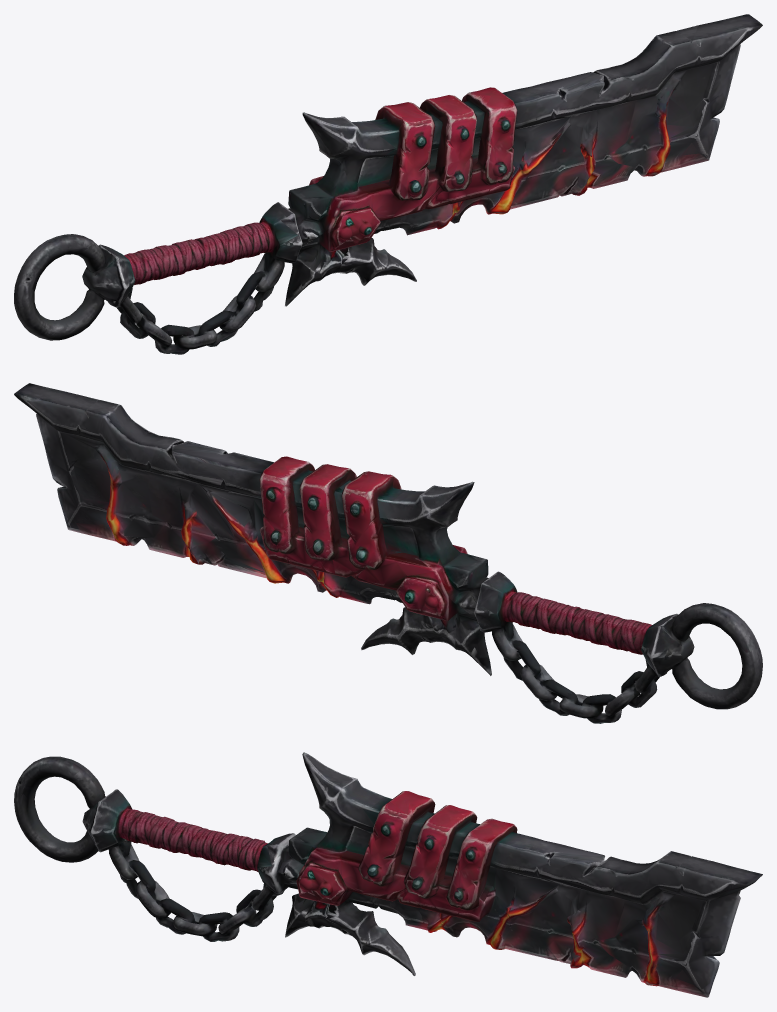
The model's file is prop_enra_susanoo_sword.glb.
3 views of the same model, one above another, from view 1: azimuth 30°, elevation 25°; view 2: azimuth 150°, elevation 25°; view 3: azimuth 330°, elevation 25° (orthographic).
Visible parts, largest first — view 1: tripo_node_abb0fbfc-e147-45c5-8e71-e434947c74e1; view 2: tripo_node_abb0fbfc-e147-45c5-8e71-e434947c74e1; view 3: tripo_node_abb0fbfc-e147-45c5-8e71-e434947c74e1.
Part boxes in pixels (x1,y1,x2,y2): tripo_node_abb0fbfc-e147-45c5-8e71-e434947c74e1: (14, 14, 762, 354); tripo_node_abb0fbfc-e147-45c5-8e71-e434947c74e1: (14, 383, 762, 723); tripo_node_abb0fbfc-e147-45c5-8e71-e434947c74e1: (14, 752, 762, 997).
Size of the model in its own units: 0.9797 by 0.2665 by 0.1027.
Materials: 1 (1 with a texture image).
